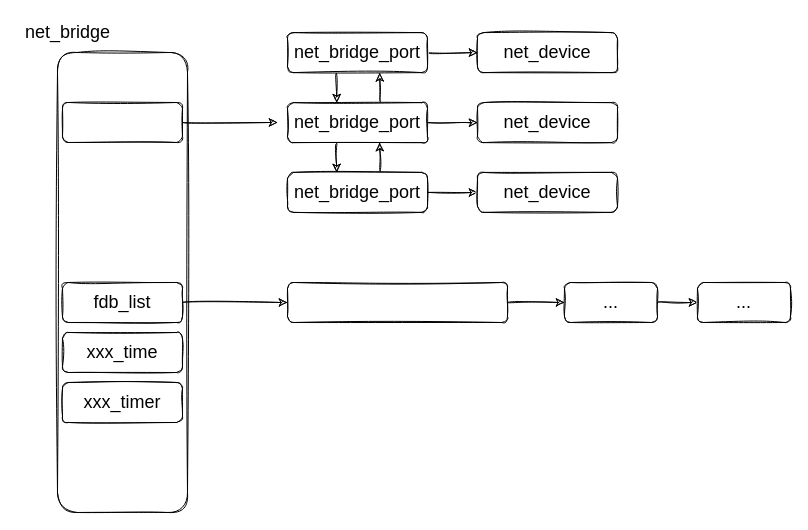
The diagram is 808 pixels wide and 530 high, and some of its shapes have lost their labels. The centre of each missing label's shape, as x and y in pixels:
net_bridge_fdb_entry: the point at 397,302
port_list: the point at 122,122
